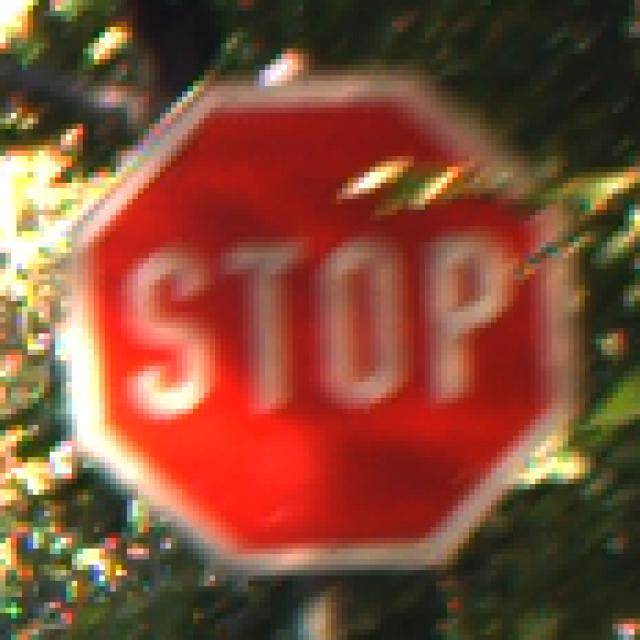STOP: (56, 60, 586, 587)
